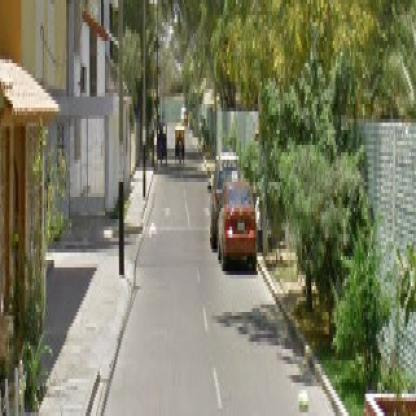Pista: (106, 120, 337, 413)
Vehiculo: (217, 179, 259, 272), (158, 120, 169, 172), (176, 127, 185, 168)
